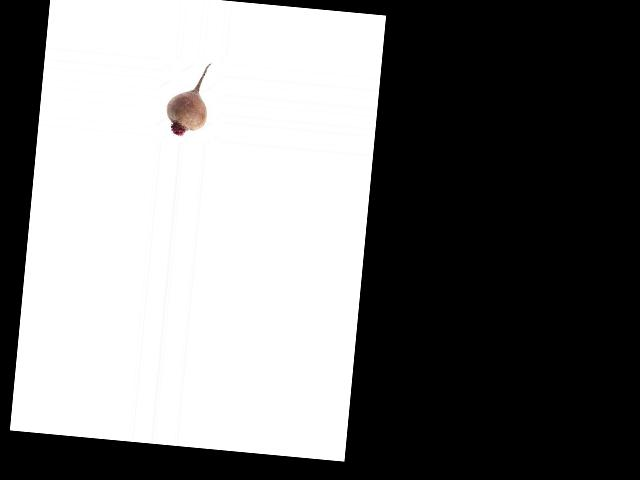beet: (163, 59, 211, 137)
